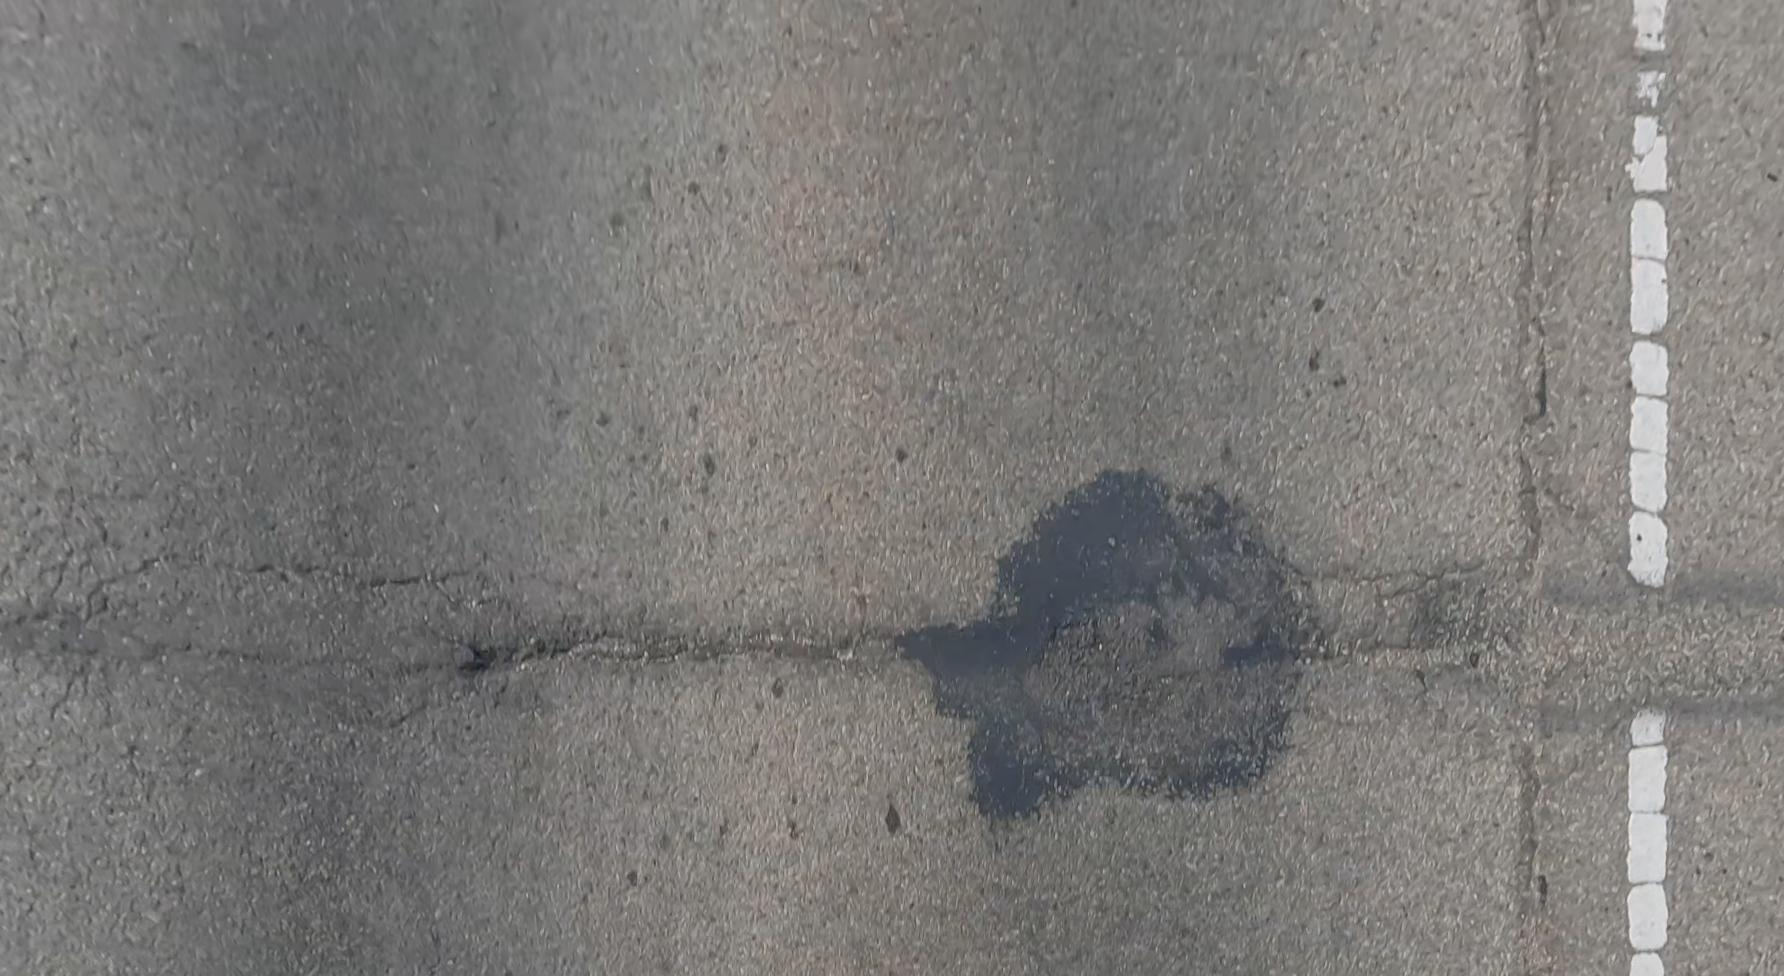pothole_patch_good: (895, 474, 1307, 835), (1515, 577, 1782, 721)
